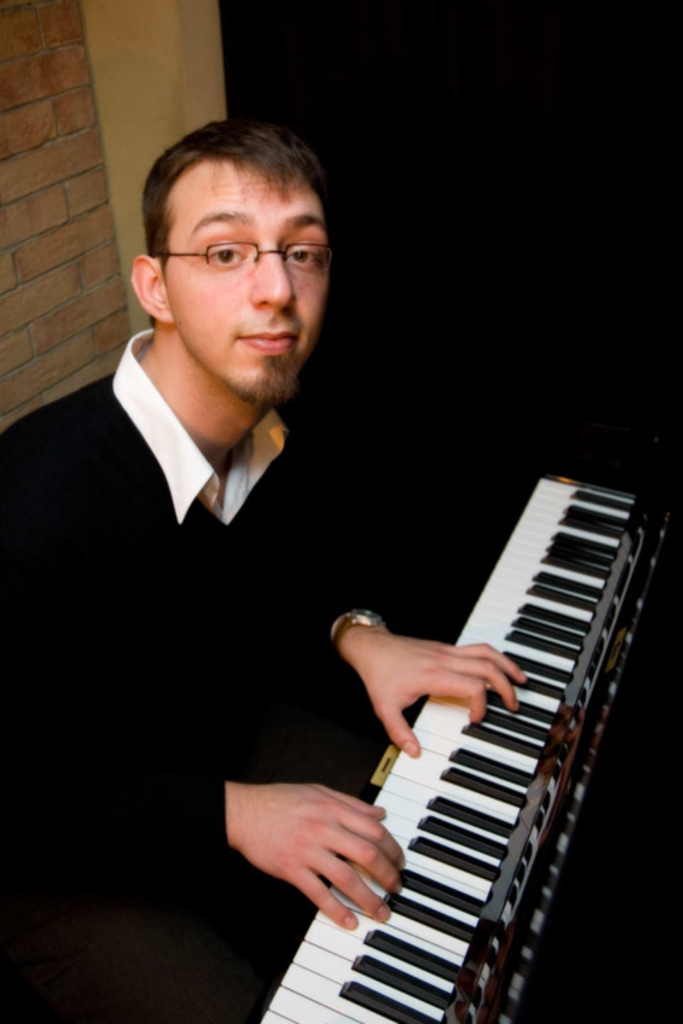Person: (0, 120, 527, 1023)
